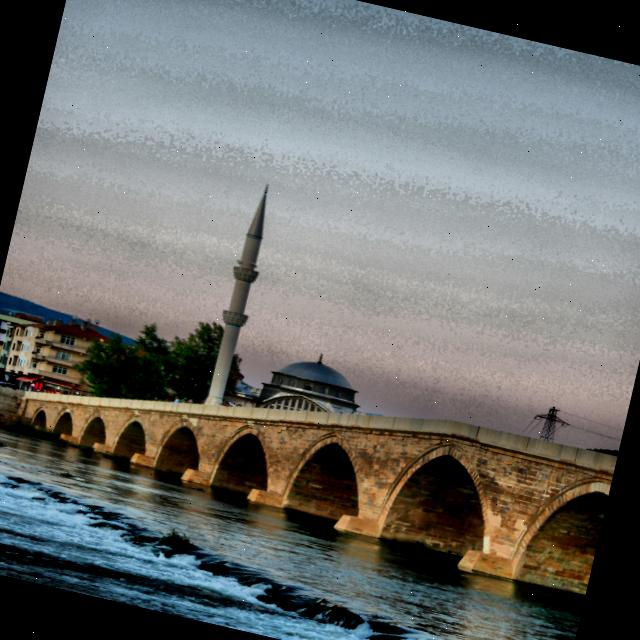stone bridge: (12, 322, 618, 606)
